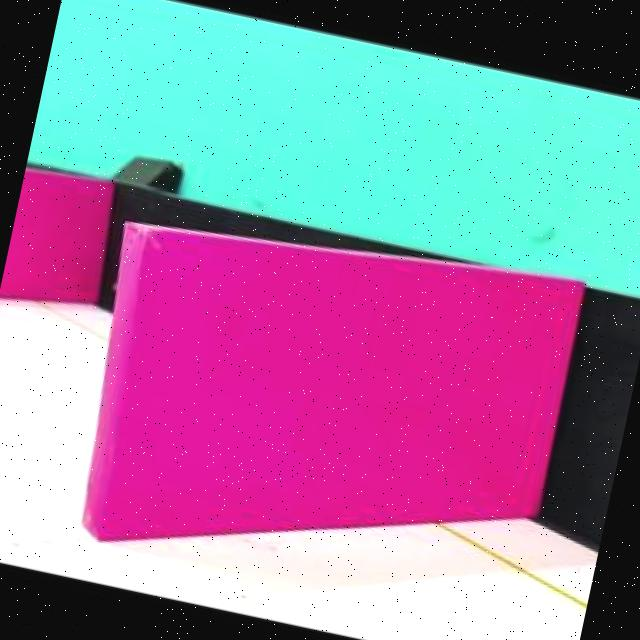xparking: (87, 234, 526, 586), (0, 183, 98, 309)
